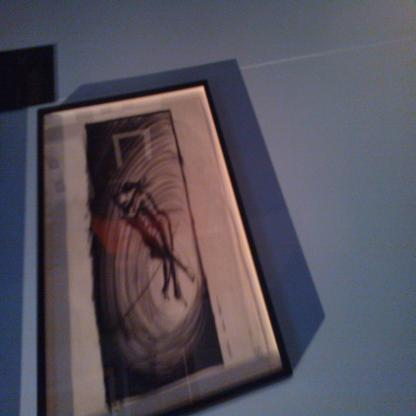Picture-frame: (38, 81, 296, 416)
